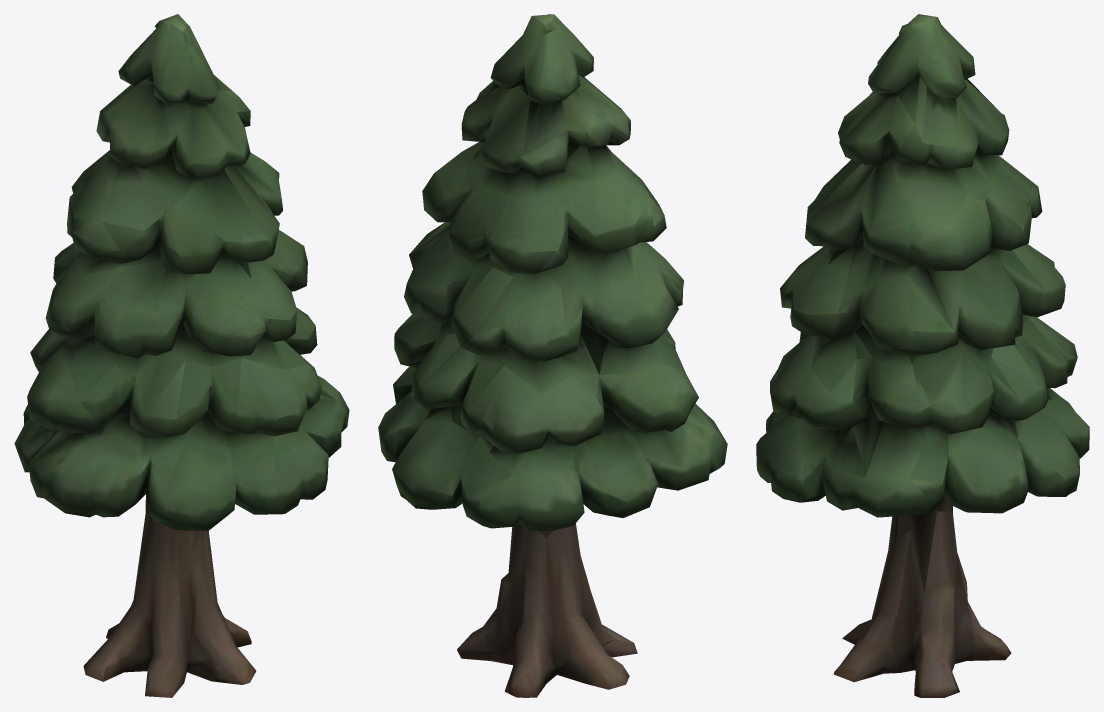
File: cedar.glb
3 renders of one model, left to right at view 1: azimuth 30°, elevation 25°; view 2: azimuth 150°, elevation 25°; view 3: azimuth 270°, elevation 25°, orthographic.
Visible parts, largest first — view 1: tripo_node_c1f4628e-1f8a-418e-8d3d-2f2999acd44e; view 2: tripo_node_c1f4628e-1f8a-418e-8d3d-2f2999acd44e; view 3: tripo_node_c1f4628e-1f8a-418e-8d3d-2f2999acd44e.
Part boxes in pixels (left/top/right/bottom): tripo_node_c1f4628e-1f8a-418e-8d3d-2f2999acd44e: left=14, top=14, right=349, bottom=697; tripo_node_c1f4628e-1f8a-418e-8d3d-2f2999acd44e: left=378, top=14, right=727, bottom=697; tripo_node_c1f4628e-1f8a-418e-8d3d-2f2999acd44e: left=756, top=14, right=1089, bottom=697.
Bounding box in the file's own units: 0.4883 × 0.9778 × 0.459.
Materials: 1 (1 with a texture image).
